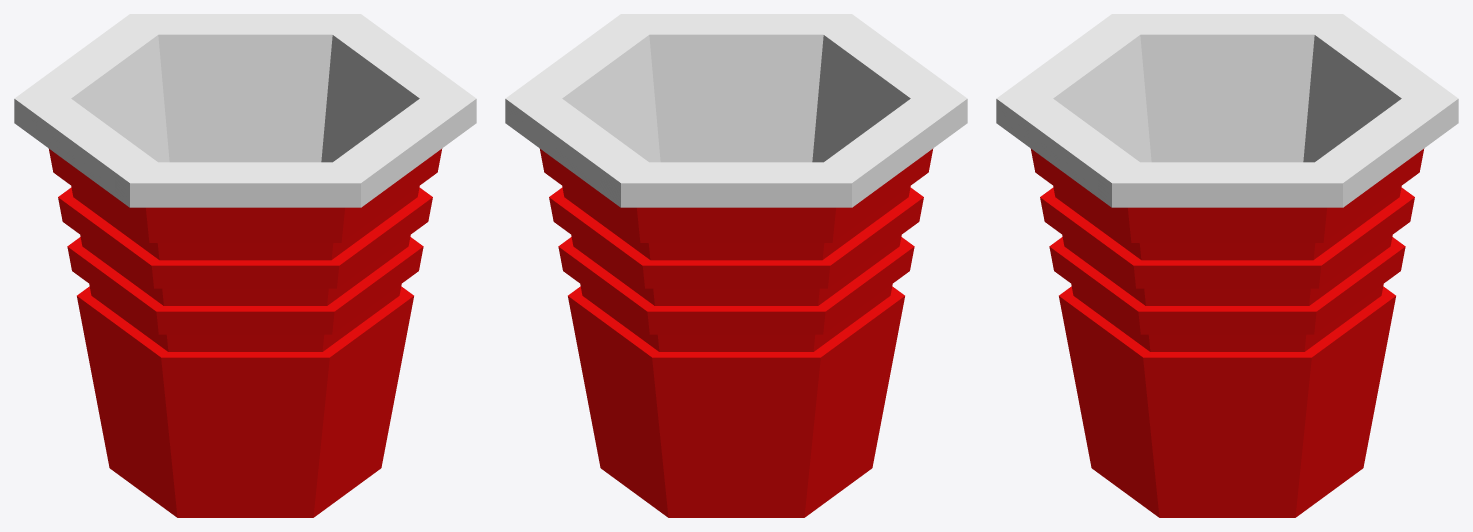
File: cup.glb
3 views of the same model, side by side, from view 1: azimuth 30°, elevation 25°; view 2: azimuth 150°, elevation 25°; view 3: azimuth 270°, elevation 25° (orthographic).
Parts seen in each view (by area): view 1: Cone; view 2: Cone; view 3: Cone.
Part boxes in pixels (x1=…): Cone: x1=14, y1=14, x2=476, y2=517; Cone: x1=505, y1=14, x2=967, y2=517; Cone: x1=996, y1=14, x2=1458, y2=517.
Bounding box in the file's own units: 2.94 × 3 × 3.4.
1 material, 1 textured.
